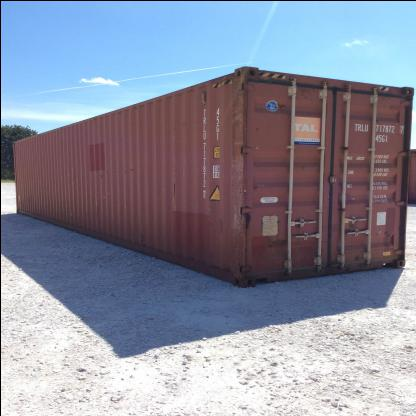Damage: (221, 138, 249, 184), (230, 82, 249, 132), (226, 204, 246, 248)
